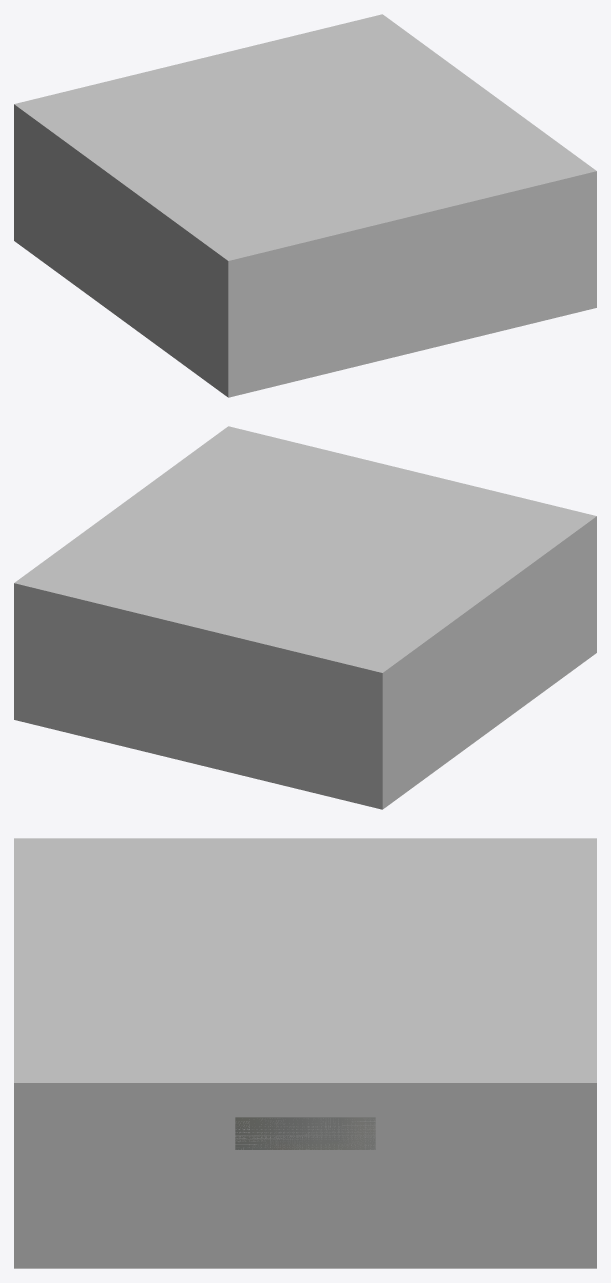
File: light_fixture.DAE
3 views of the same model, one above another, from view 1: azimuth 30°, elevation 25°; view 2: azimuth 150°, elevation 25°; view 3: azimuth 270°, elevation 25° (orthographic). The views are drawn at different scales.
Parts seen in each view (by area): view 1: bounds; view 2: bounds; view 3: bounds, light_fixture100.
Boxes of the visible parts, bbox=[...] form: bounds: bbox=[14, 14, 596, 397]; bounds: bbox=[14, 426, 596, 809]; bounds: bbox=[14, 838, 596, 1268]; light_fixture100: bbox=[235, 1117, 375, 1149].
Bounding box in the file's own units: 74.6 × 75.15 × 26.44.
